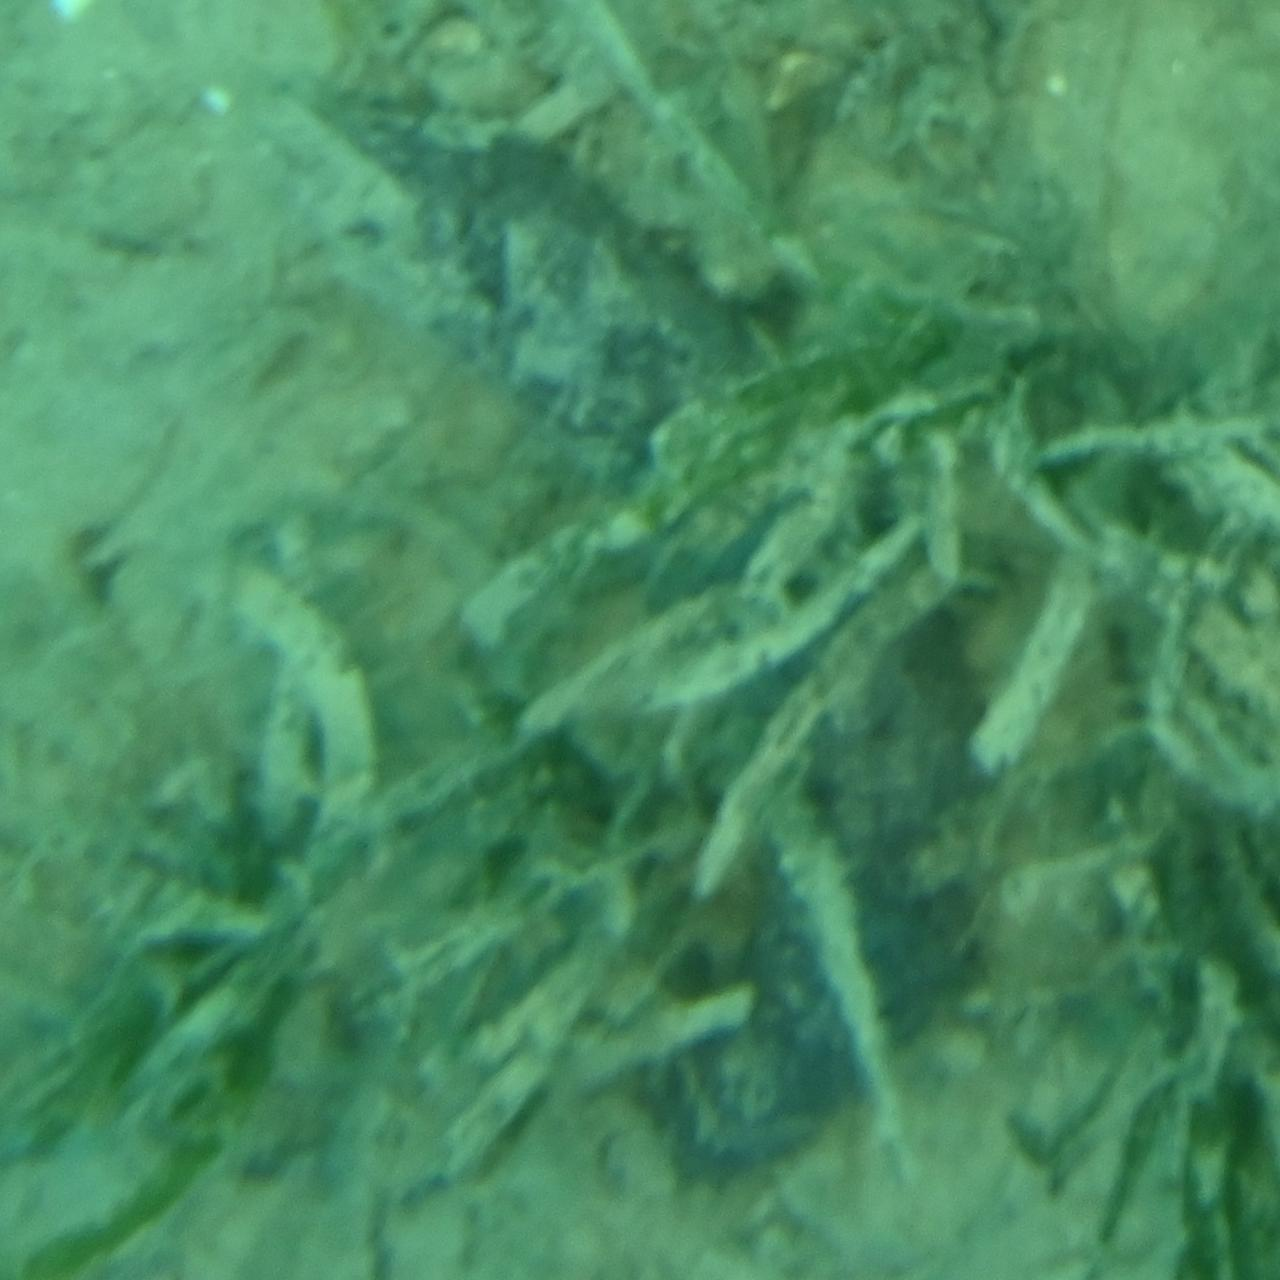Holothuria tubulosa: (262, 82, 1018, 1198)
